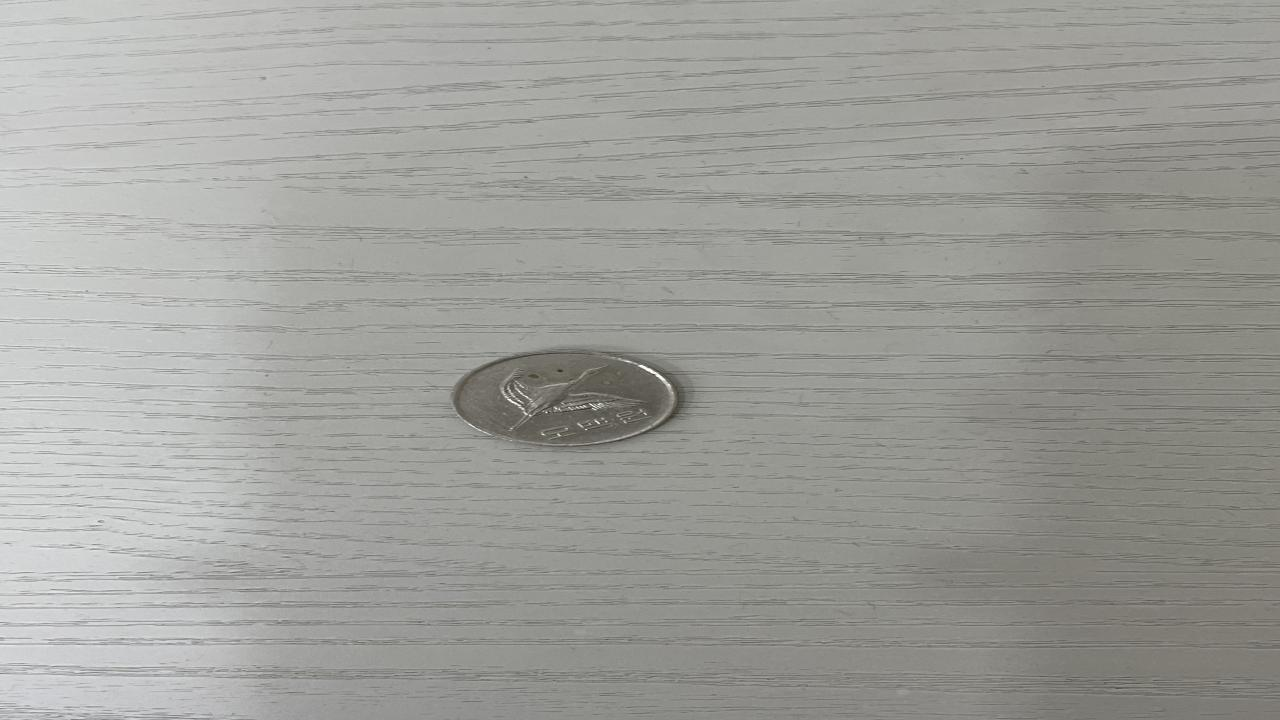coin: (444, 349, 688, 448)
